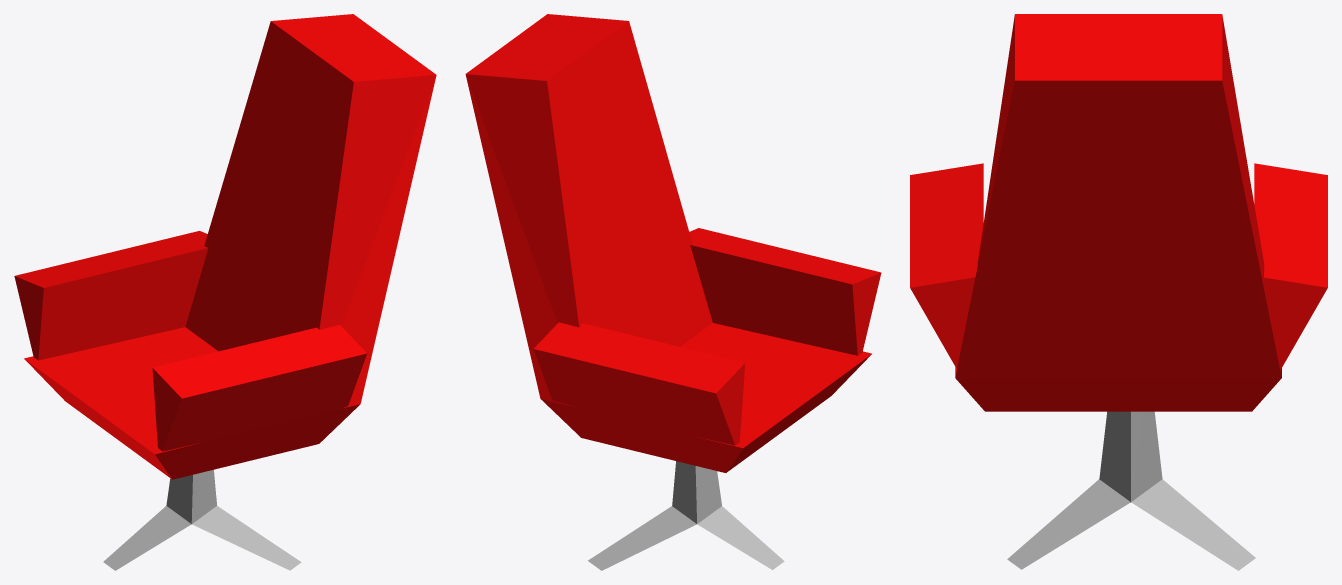
File: Chefsessel[Rot]_1948.glb
The picture shows the model from 3 angles, left to right: view 1: azimuth 30°, elevation 25°; view 2: azimuth 150°, elevation 25°; view 3: azimuth 270°, elevation 25°; orthographic projection. The views are drawn at different scales.
Visible parts, largest first — view 1: pPlaneShape67, pPlaneShape69, pCylinderShape102, pCylinderShape103, pPlaneShape68, pPlaneShape66, pPlaneShape64, pCylinderShape101, pPlaneShape72, pPlaneShape75; view 2: pPlaneShape67, pPlaneShape70, pCylinderShape103, pCylinderShape102, pPlaneShape71, pPlaneShape65, pCylinderShape101, pPlaneShape64, pPlaneShape75, pPlaneShape72; view 3: pPlaneShape67, pCylinderShape102, pCylinderShape103, pCylinderShape101, pPlaneShape65, pPlaneShape66, pPlaneShape74, pPlaneShape73, pPlaneShape70, pPlaneShape69.
Part boxes in pixels (bbox=[...]): pPlaneShape67: bbox=[24, 14, 436, 478]; pPlaneShape69: bbox=[319, 75, 436, 407]; pCylinderShape102: bbox=[153, 325, 366, 461]; pCylinderShape103: bbox=[15, 231, 208, 372]; pPlaneShape68: bbox=[155, 404, 359, 479]; pPlaneShape66: bbox=[192, 506, 301, 570]; pPlaneShape64: bbox=[103, 506, 191, 570]; pCylinderShape101: bbox=[166, 469, 216, 524]; pPlaneShape72: bbox=[14, 276, 43, 359]; pPlaneShape75: bbox=[152, 368, 181, 451]; pPlaneShape67: bbox=[466, 14, 871, 472]; pPlaneShape70: bbox=[465, 74, 579, 407]; pCylinderShape103: bbox=[533, 322, 744, 455]; pCylinderShape102: bbox=[689, 228, 880, 367]; pPlaneShape71: bbox=[541, 399, 742, 472]; pPlaneShape65: bbox=[588, 506, 696, 570]; pCylinderShape101: bbox=[672, 461, 721, 524]; pPlaneShape64: bbox=[697, 506, 784, 569]; pPlaneShape75: bbox=[852, 273, 881, 355]; pPlaneShape72: bbox=[716, 363, 745, 445]; pPlaneShape67: bbox=[955, 14, 1281, 411]; pCylinderShape102: bbox=[910, 163, 983, 366]; pCylinderShape103: bbox=[1254, 163, 1327, 287]; pCylinderShape101: bbox=[1099, 411, 1162, 502]; pPlaneShape65: bbox=[1131, 479, 1255, 570]; pPlaneShape66: bbox=[1007, 479, 1130, 569]; pPlaneShape74: bbox=[910, 277, 975, 368]; pPlaneShape73: bbox=[1264, 277, 1327, 369]; pPlaneShape70: bbox=[1222, 15, 1281, 375]; pPlaneShape69: bbox=[977, 15, 1014, 265].
Bounding box in the file's own units: 0.1514 × 0.2226 × 0.1439.
